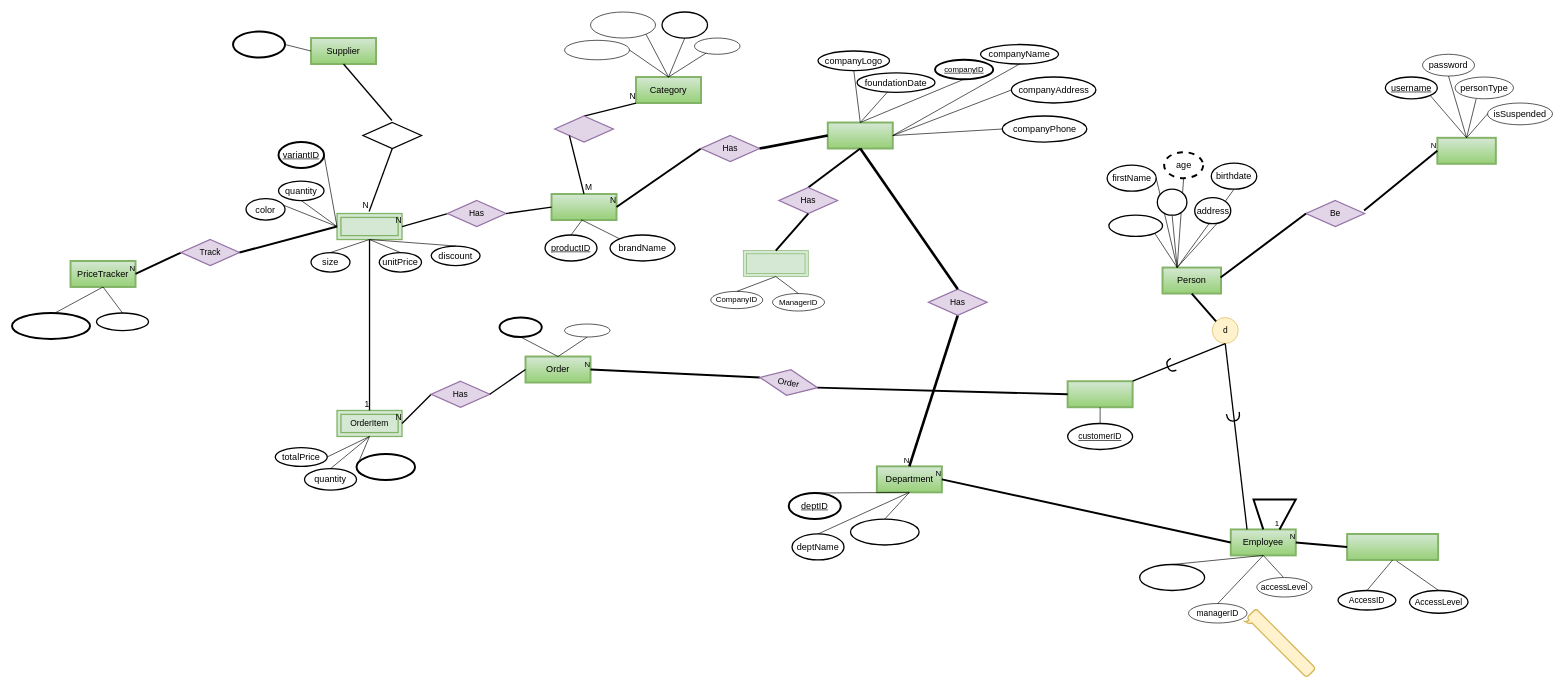
Image size: 1564x692. Some labels were removed from this diagram. Here are the shapes that lost their labels. From the top down, the box of each, then its label:
(232, 30, 286, 58): supplierID
(590, 11, 656, 38): catBaseID
(661, 11, 708, 38): catID
(564, 40, 630, 60): createDate
(694, 37, 740, 54): catName
(362, 122, 422, 149): supply
(554, 115, 614, 142): In
(826, 121, 893, 149): Company
(1436, 136, 1496, 164): User
(550, 193, 617, 221): Product
(1156, 188, 1187, 216): email
(336, 213, 402, 240): Variant
(1108, 214, 1163, 237): lastName
(743, 250, 808, 277): Manager
(11, 312, 91, 340): priceTrackerID
(96, 312, 149, 331): prePrice
(498, 316, 542, 338): orderID
(564, 323, 610, 337): ispayed
(1066, 380, 1133, 408): Customer
(355, 453, 416, 481): orderItemID
(850, 518, 919, 545): deptManager
(1346, 533, 1439, 561): EmployeeAccess
(1139, 564, 1205, 591): employeeID
(1243, 607, 1316, 681): if null => is manager
